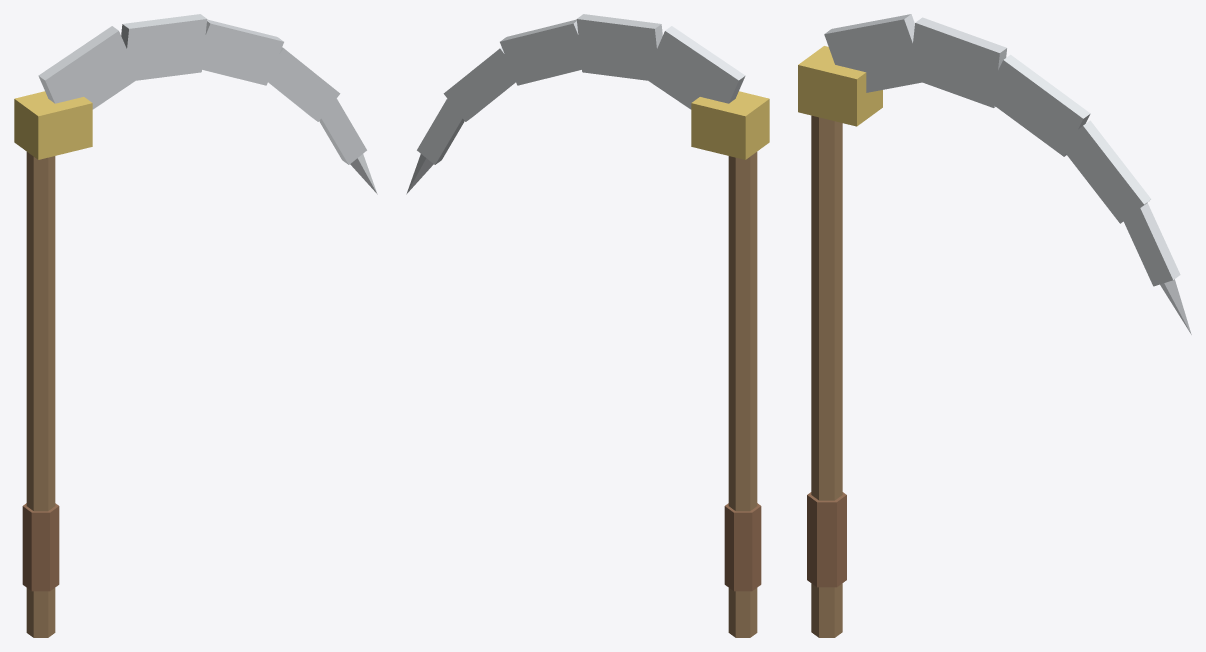
Rendered from scythe.glb.
3 renders of one model, left to right at view 1: azimuth 30°, elevation 25°; view 2: azimuth 150°, elevation 25°; view 3: azimuth 330°, elevation 25°, orthographic. The views are drawn at different scales.
Visible parts, largest first — view 1: scythe_shaft, scythe_blade_1, scythe_blade_0, scythe_bracket, scythe_blade_2, scythe_grip, scythe_blade_3, scythe_blade_4; view 2: scythe_shaft, scythe_blade_1, scythe_blade_0, scythe_bracket, scythe_blade_2, scythe_grip, scythe_blade_3, scythe_blade_4; view 3: scythe_shaft, scythe_blade_1, scythe_blade_0, scythe_blade_2, scythe_bracket, scythe_blade_3, scythe_grip, scythe_blade_4.
Part boxes in pixels (x1,y1,x2,y2): scythe_shaft: (26, 152, 55, 637); scythe_blade_1: (121, 14, 207, 82); scythe_blade_0: (38, 26, 138, 109); scythe_bracket: (14, 91, 92, 159); scythe_blade_2: (193, 19, 283, 85); scythe_grip: (22, 503, 59, 591); scythe_blade_3: (263, 47, 340, 121); scythe_blade_4: (319, 98, 366, 164); scythe_shaft: (728, 152, 757, 637); scythe_blade_1: (576, 14, 662, 82); scythe_blade_0: (646, 26, 745, 109); scythe_bracket: (691, 91, 769, 159); scythe_blade_2: (500, 19, 590, 85); scythe_grip: (724, 503, 761, 591); scythe_blade_3: (443, 47, 521, 121); scythe_blade_4: (417, 98, 465, 164); scythe_shaft: (811, 115, 842, 637); scythe_blade_1: (909, 17, 1006, 107); scythe_blade_0: (824, 14, 925, 92); scythe_blade_2: (984, 54, 1090, 156); scythe_bracket: (798, 46, 882, 126); scythe_blade_3: (1062, 120, 1151, 223); scythe_grip: (807, 492, 846, 587); scythe_blade_4: (1121, 203, 1180, 286).
Bounding box in the file's own units: 0.8414 × 1.34 × 0.1.
